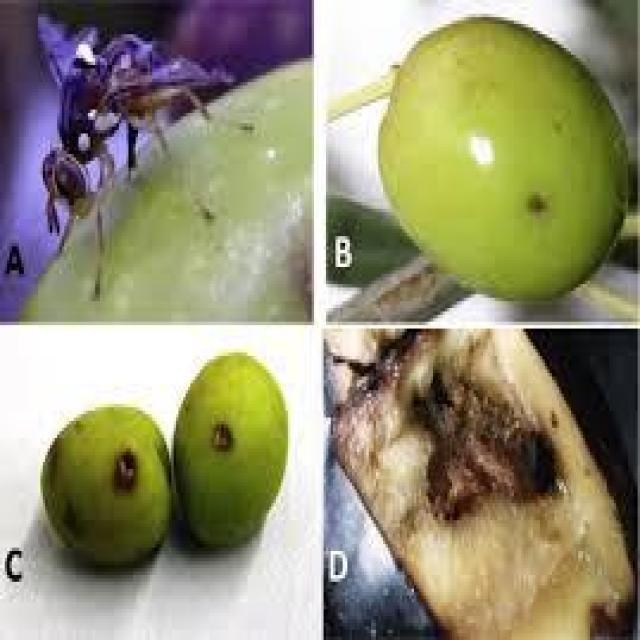Anthracnose: (331, 328, 633, 636), (380, 17, 626, 291), (38, 13, 269, 264), (174, 352, 283, 544), (42, 408, 166, 562)
